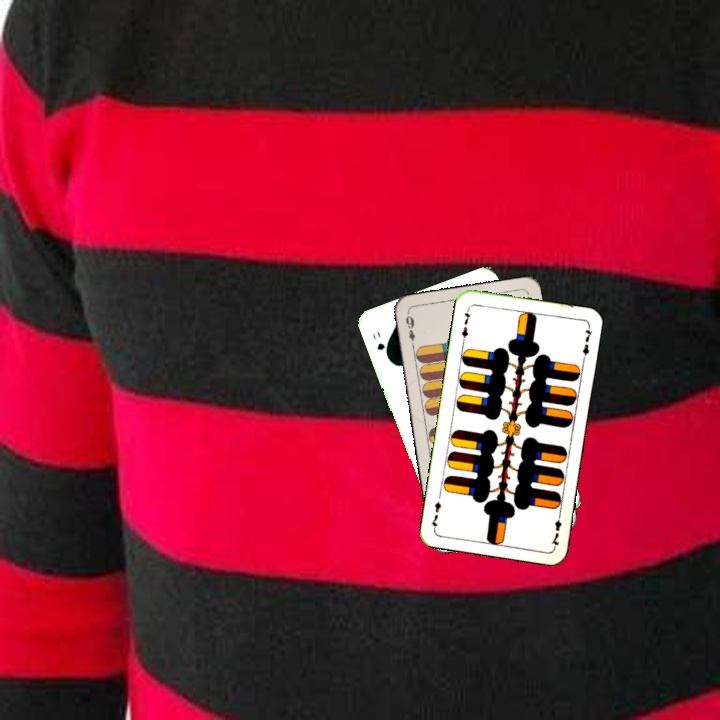E7: (457, 304, 474, 344), (547, 509, 564, 549)
E9: (401, 312, 418, 350)
GO: (368, 327, 391, 361)
